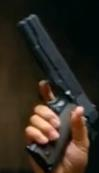gun: (1, 1, 99, 173)
